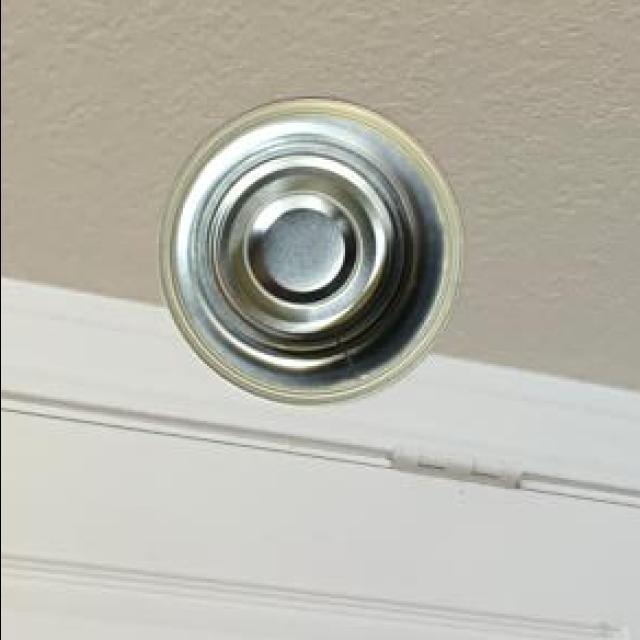logam: (155, 102, 461, 411)
